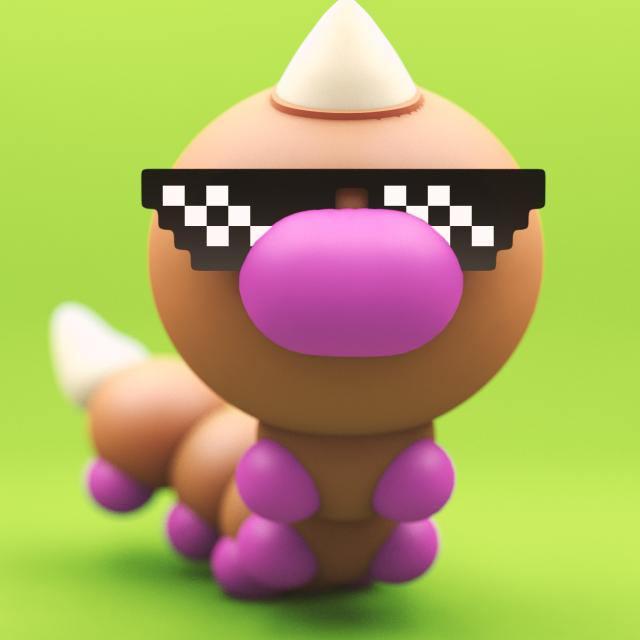Weedle: (150, 0, 547, 601)
